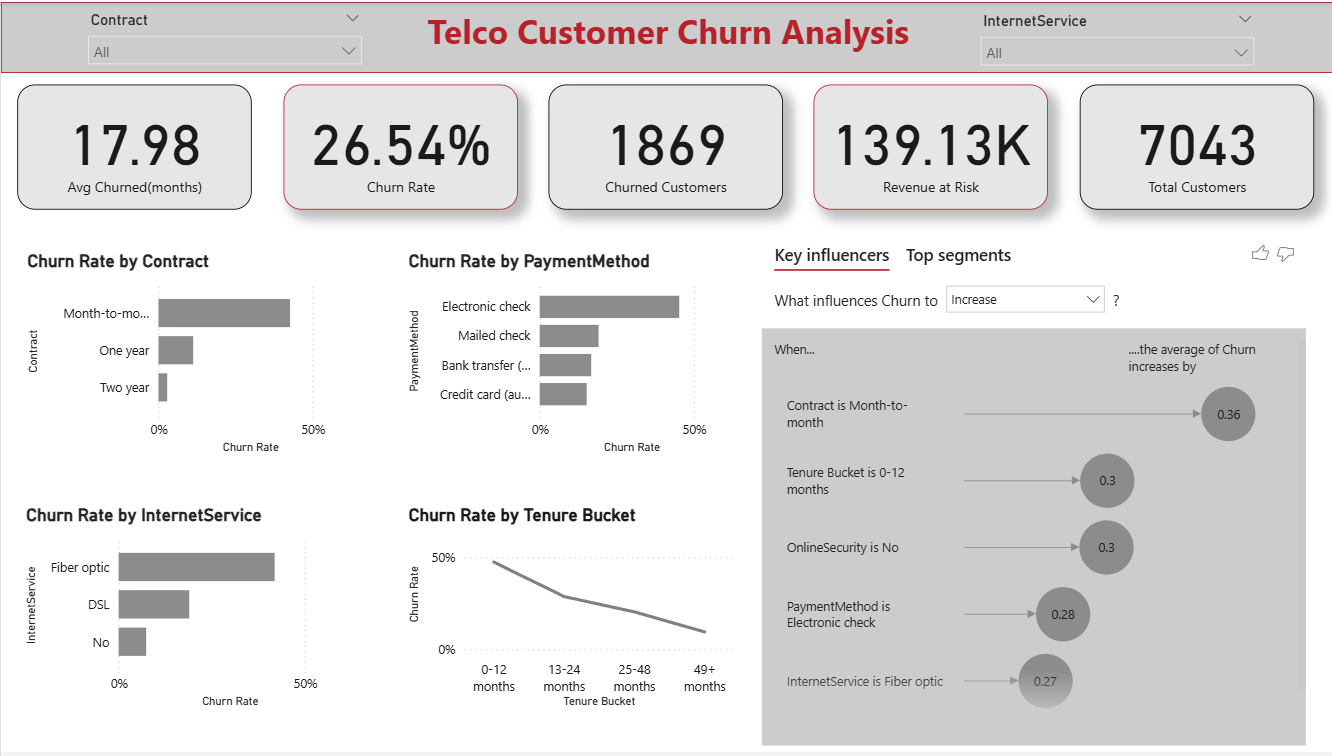

What the dashboard file says about the page in this screenshot:
{"tool":"powerbi","page":{"name":"Churn Overview","canvas":[1280,720],"ordinal":0},"visuals":[{"type":"card","fields":{"Values":["Measure.Avg Churned(Tenure)"]},"box":[15.7,79,225,120],"z":0},{"type":"card","fields":{"Values":["Measure.Churn Rate"]},"box":[270.3,79,225,120],"z":1000},{"type":"card","fields":{"Values":["Measure.Churned Customers"]},"box":[525,79,225,120],"z":2000},{"type":"card","fields":{"Values":["Measure.Revenue at Risk"]},"box":[779.6,79,225,120],"z":3000},{"type":"card","fields":{"Values":["Measure.Total Customers"]},"box":[1034.3,79,225,120],"z":4000},{"type":"clusteredBarChart","fields":{"Y":["Measure.Churn Rate"],"Category":["Telco-Customer-Churn_dataset_cleaned.Contract"]},"box":[20,238.2,325,199.3],"z":5000},{"type":"clusteredBarChart","fields":{"Y":["Measure.Churn Rate"],"Category":["Telco-Customer-Churn_dataset_cleaned.PaymentMethod"]},"box":[386.3,238.2,325,199.3],"z":6000},{"type":"clusteredBarChart","fields":{"Y":["Measure.Churn Rate"],"Category":["Telco-Customer-Churn_dataset_cleaned.InternetService"]},"box":[19.6,481.6,325,200],"z":7000},{"type":"keyDriversVisual","fields":{"Target":["Telco-Customer-Churn_dataset_cleaned.Churn"],"ExplainBy":["Telco-Customer-Churn_dataset_cleaned.Contract","Telco-Customer-Churn_dataset_cleaned.OnlineSecurity","Telco-Customer-Churn_dataset_cleaned.PaymentMethod","Telco-Customer-Churn_dataset_cleaned.InternetService","Telco-Customer-Churn_dataset_cleaned.Tenure Bucket"]},"box":[729,222,523.7,492.6],"z":8000},{"type":"lineChart","fields":{"Category":["Telco-Customer-Churn_dataset_cleaned.Tenure Bucket"],"Y":["Measure.Churn Rate"]},"box":[385.8,481.6,325,200],"z":9000},{"type":"textbox","box":[0,0,1280.2,67.9],"z":10000},{"type":"slicer","fields":{"Values":["Telco-Customer-Churn_dataset_cleaned.Contract"]},"box":[73.1,3.6,282.8,58.7],"z":10001},{"type":"slicer","fields":{"Values":["Telco-Customer-Churn_dataset_cleaned.InternetService"]},"box":[928.8,4.8,282.8,58.7],"z":10002}]}

Visuals, with their boxes in screenshot pixels (x1, y1, x2, y2), scaled from the page's 1280x720 canvas onto the 1332x756 screenshot:
card - Measure.Avg Churned(Tenure): x1=16 y1=83 x2=250 y2=209
card - Measure.Churn Rate: x1=281 y1=83 x2=515 y2=209
card - Measure.Churned Customers: x1=546 y1=83 x2=780 y2=209
card - Measure.Revenue at Risk: x1=811 y1=83 x2=1045 y2=209
card - Measure.Total Customers: x1=1076 y1=83 x2=1310 y2=209
clusteredBarChart - Measure.Churn Rate x Telco-Customer-Churn_dataset_cleaned.Contract: x1=21 y1=250 x2=359 y2=459
clusteredBarChart - Measure.Churn Rate x Telco-Customer-Churn_dataset_cleaned.PaymentMethod: x1=402 y1=250 x2=740 y2=459
clusteredBarChart - Measure.Churn Rate x Telco-Customer-Churn_dataset_cleaned.InternetService: x1=20 y1=506 x2=359 y2=716
keyDriversVisual - Telco-Customer-Churn_dataset_cleaned.Churn x Telco-Customer-Churn_dataset_cleaned.Contract: x1=759 y1=233 x2=1304 y2=750
lineChart - Telco-Customer-Churn_dataset_cleaned.Tenure Bucket x Measure.Churn Rate: x1=401 y1=506 x2=740 y2=716
textbox: x1=0 y1=0 x2=1331 y2=71
slicer - Telco-Customer-Churn_dataset_cleaned.Contract: x1=76 y1=4 x2=370 y2=65
slicer - Telco-Customer-Churn_dataset_cleaned.InternetService: x1=967 y1=5 x2=1261 y2=67
